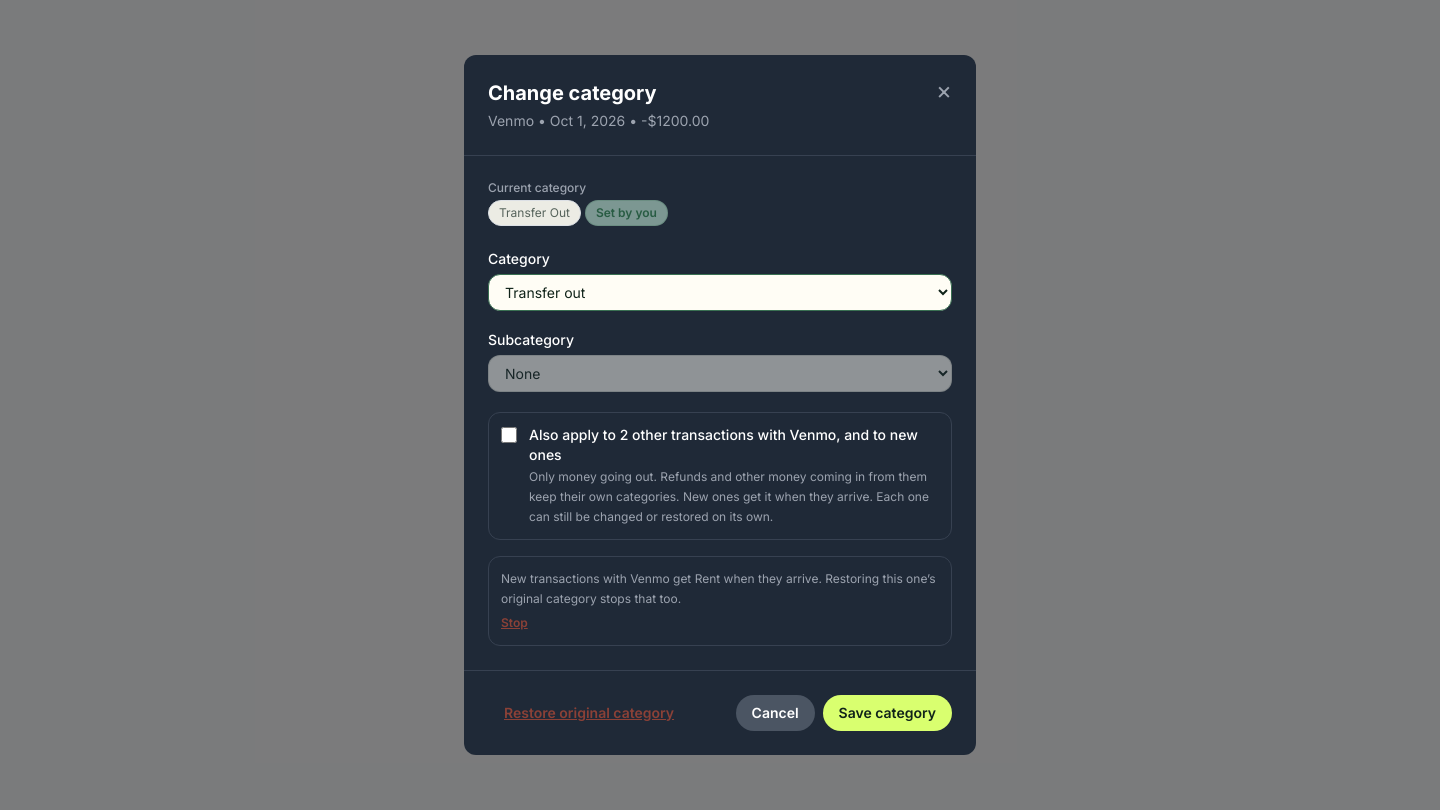
TransactionCategoryModal › says when the payee’s new transactions get a category, and stops that
Check: the text "New transactions with Venmo get Rent when they arrive." shows "Restoring this one’s original category stops that too.", box [501,571,936,606]
Click the button "Stop". click: (514,623)
box: [501,613,528,633]
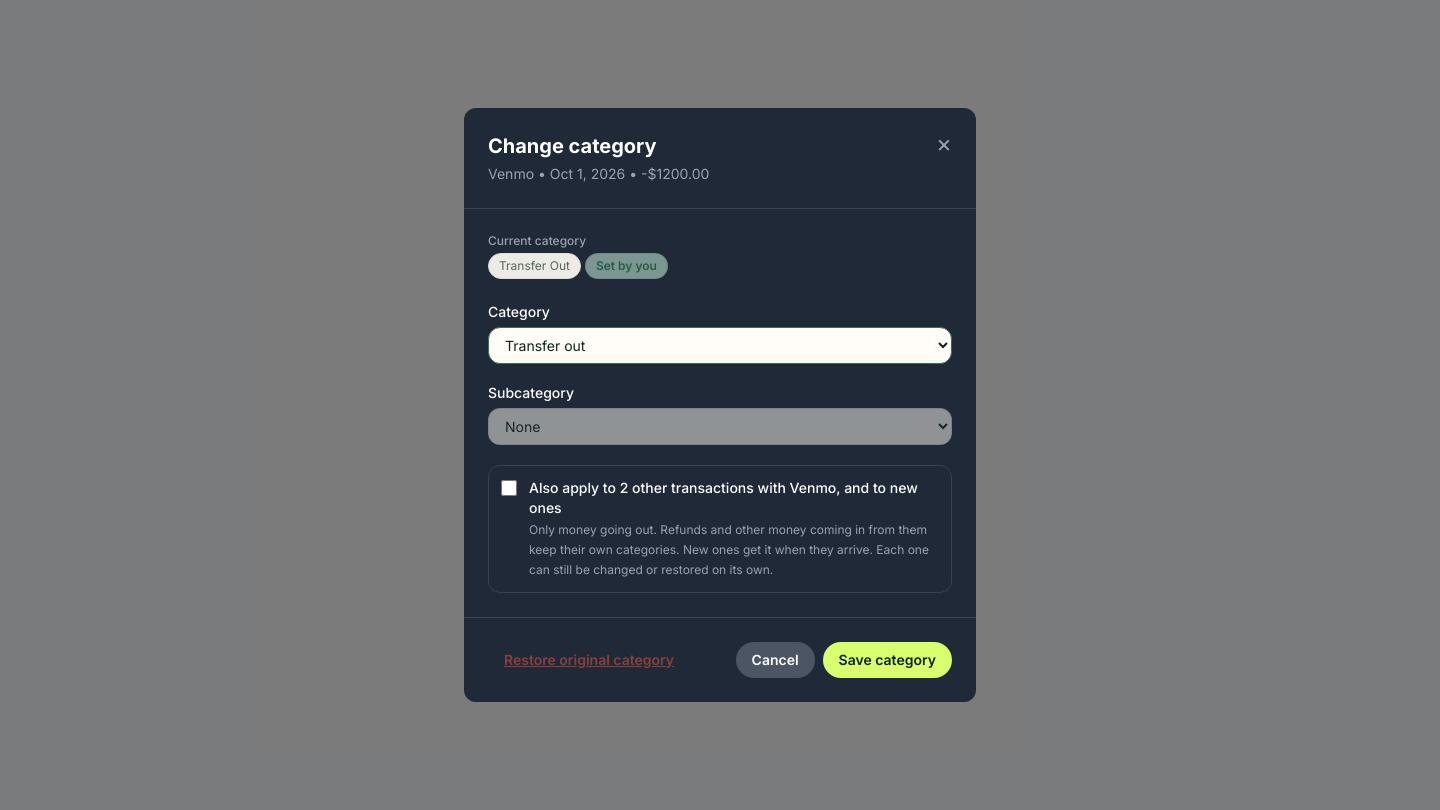
Check: the text "New transactions with Venmo get" is gone
